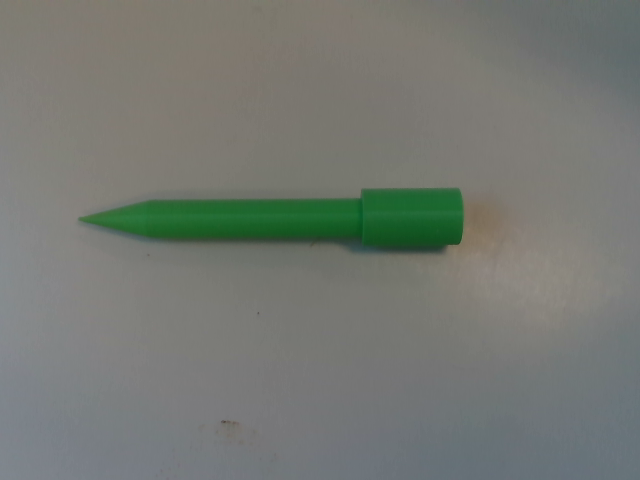Probe: (69, 181, 467, 258)
